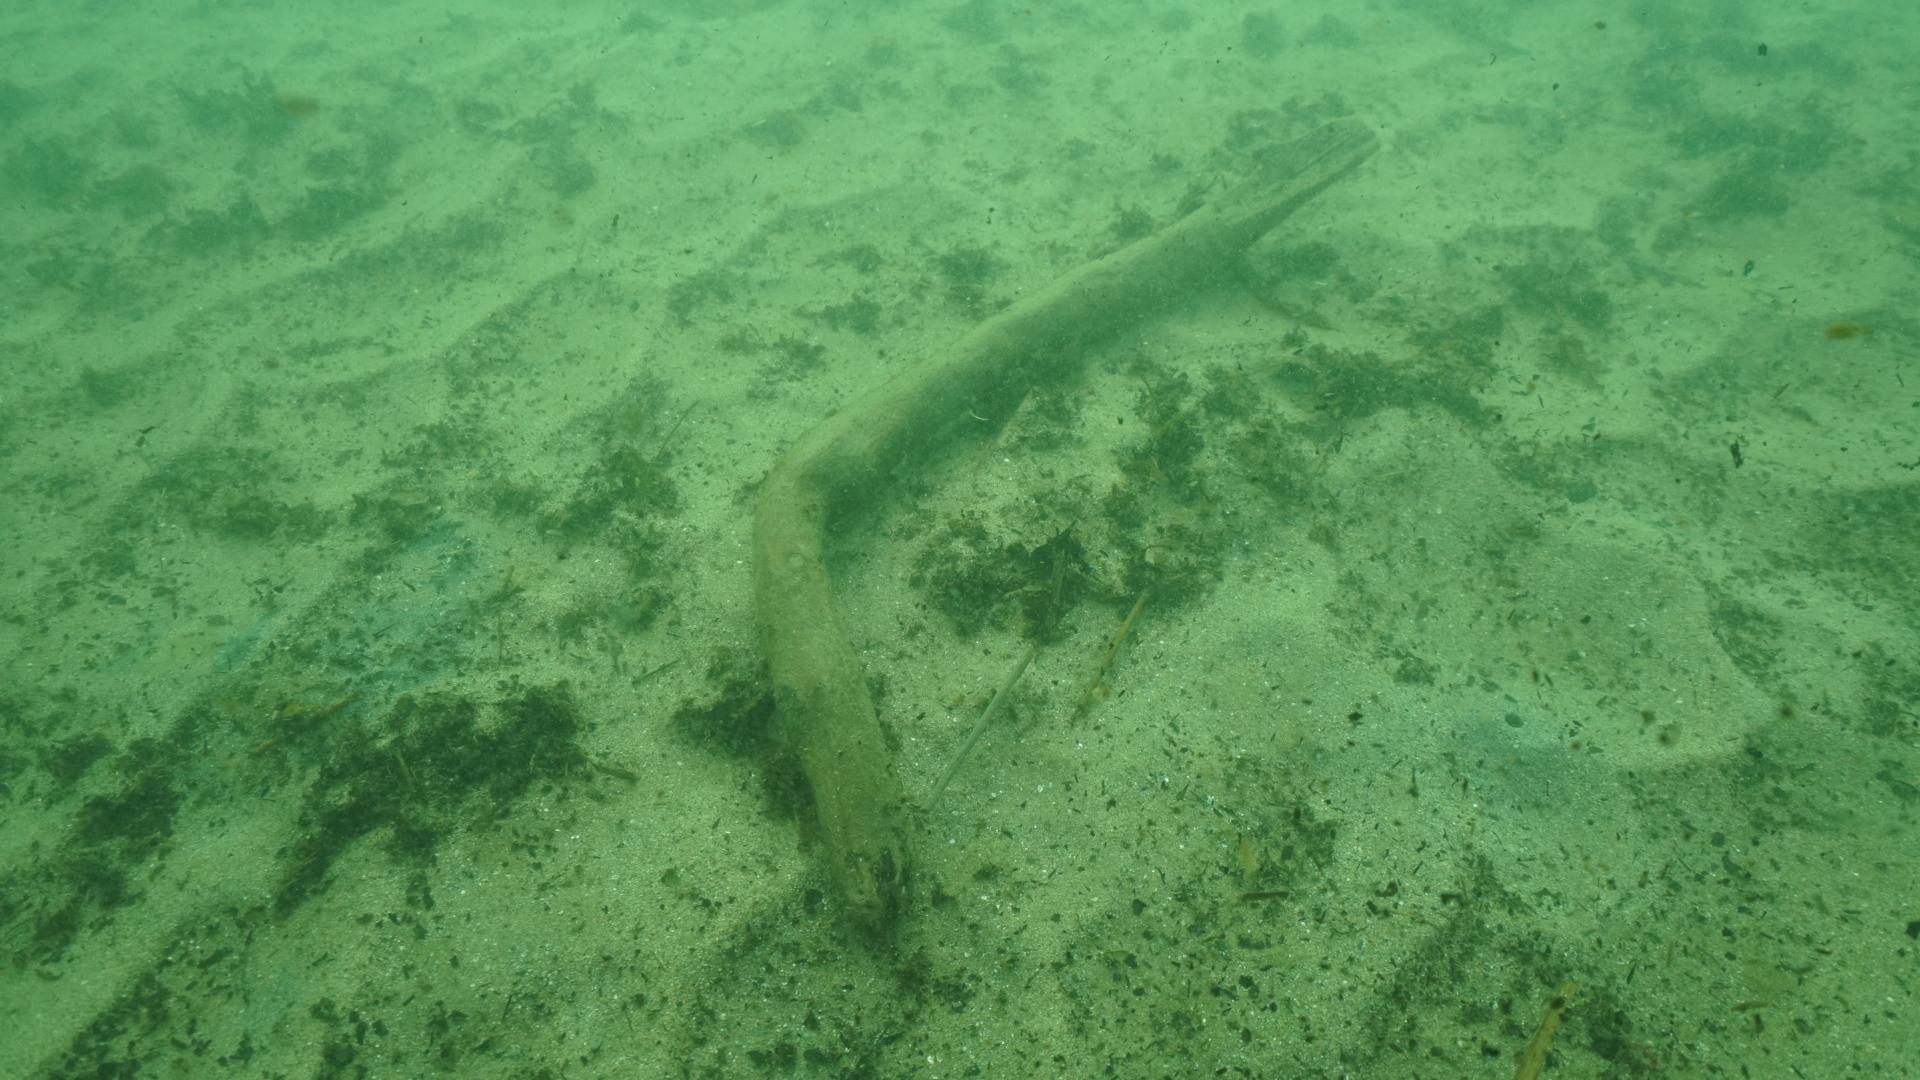wood: (742, 129, 1385, 944)
